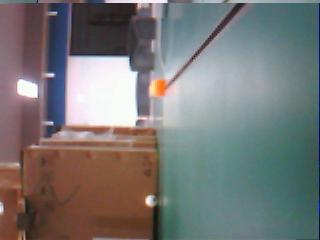oball: (149, 79, 165, 98)
